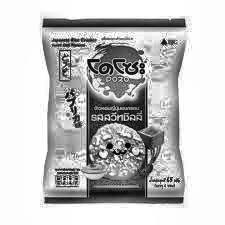snackbag: (36, 14, 191, 218)
